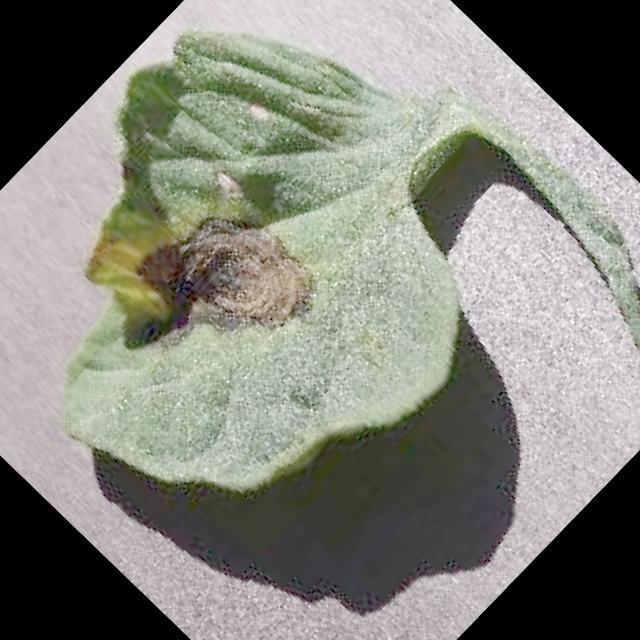Tomato Early blight leaf: (0, 0, 563, 596)
